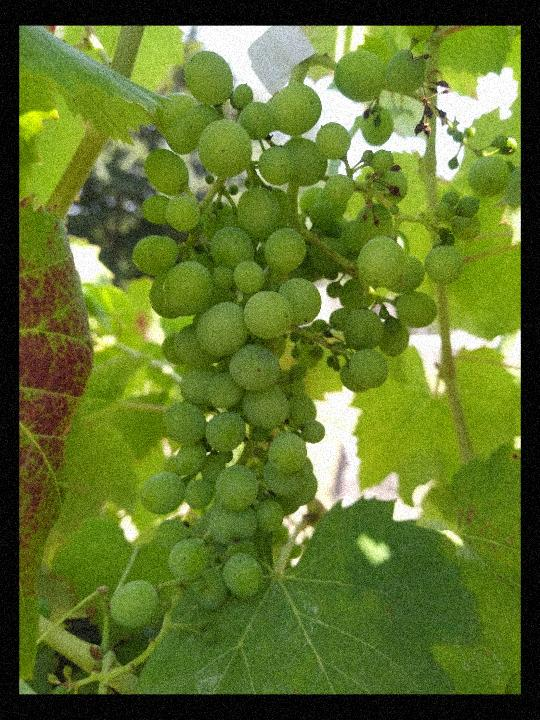grape: (107, 50, 513, 634)
